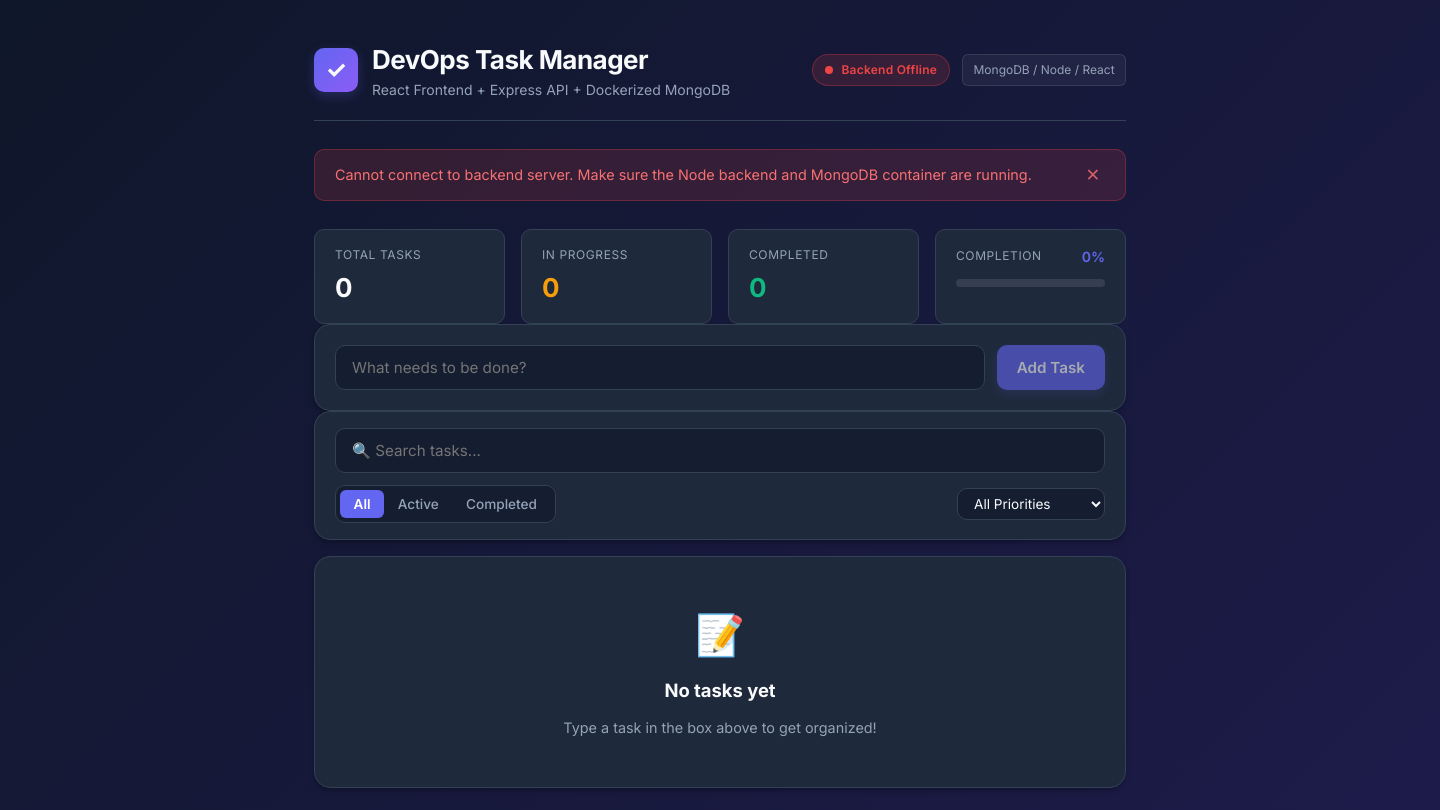
Scenario: App Root Component Integration & Edge Cases › should allow manually dismissing feedback notification banner
The width and height of the screenshot is (1440, 810).
Expected: the message is shown, [314,149,1126,201]
Click the button named "dismiss notification": (1093,175) [1081,164,1105,185]
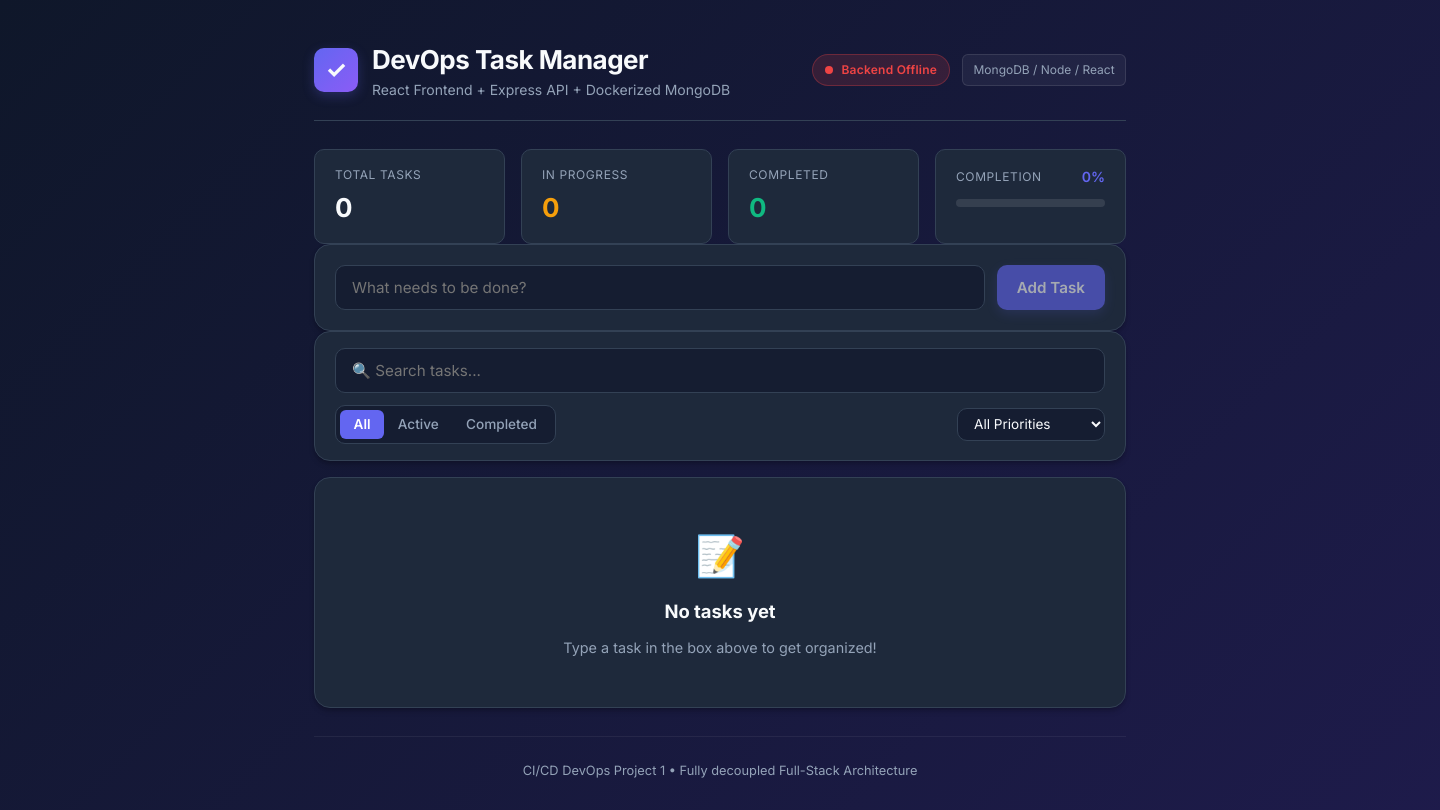
Expected: the message is gone
